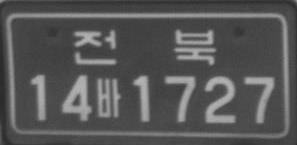1: (26, 74, 55, 121), (128, 75, 157, 122)
2: (203, 74, 236, 123)
4: (62, 74, 92, 121)
7: (164, 74, 196, 122), (244, 75, 275, 123)
바: (96, 78, 122, 118)
전북_D: (73, 28, 217, 65)
